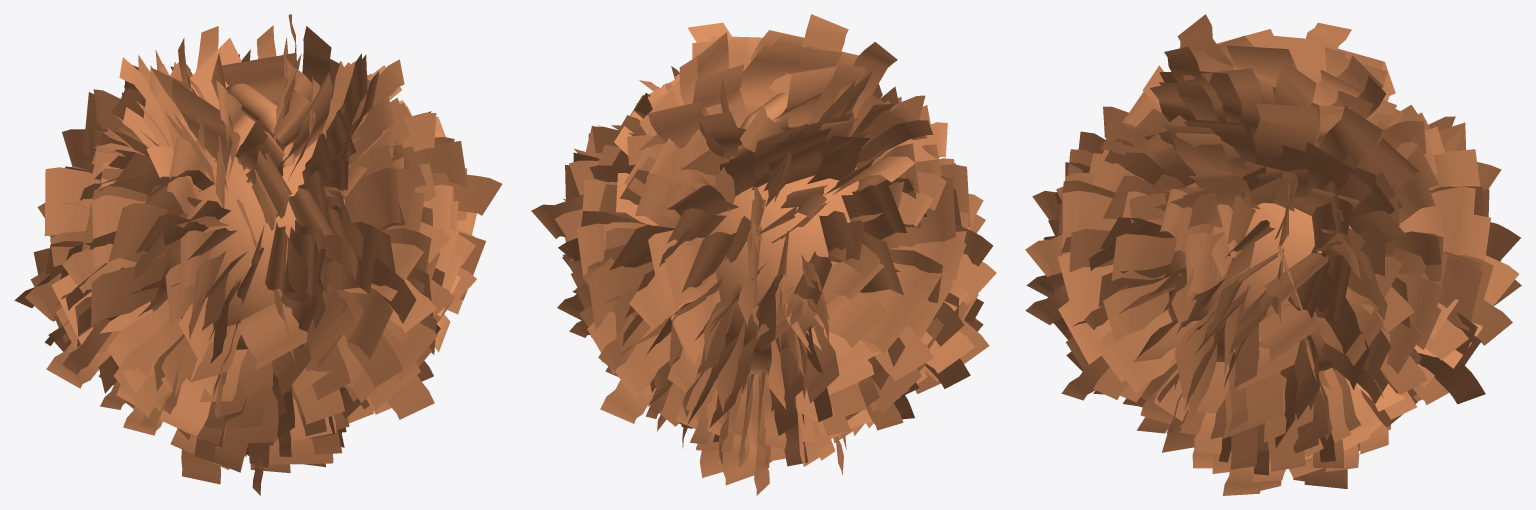
File: SM_Pompom_R.fbx
The picture shows the model from 3 angles, left to right: view 1: azimuth 30°, elevation 25°; view 2: azimuth 150°, elevation 25°; view 3: azimuth 270°, elevation 25°; orthographic projection. The views are drawn at different scales.
Parts seen in each view (by area): view 1: Pompom_R; view 2: Pompom_R; view 3: Pompom_R.
Boxes of the visible parts, x1,y1,x2,y2 form: Pompom_R: [14, 14, 502, 495]; Pompom_R: [531, 14, 996, 495]; Pompom_R: [1025, 14, 1521, 495].
Size of the model in its own units: 27.71 by 27.53 by 27.74.
